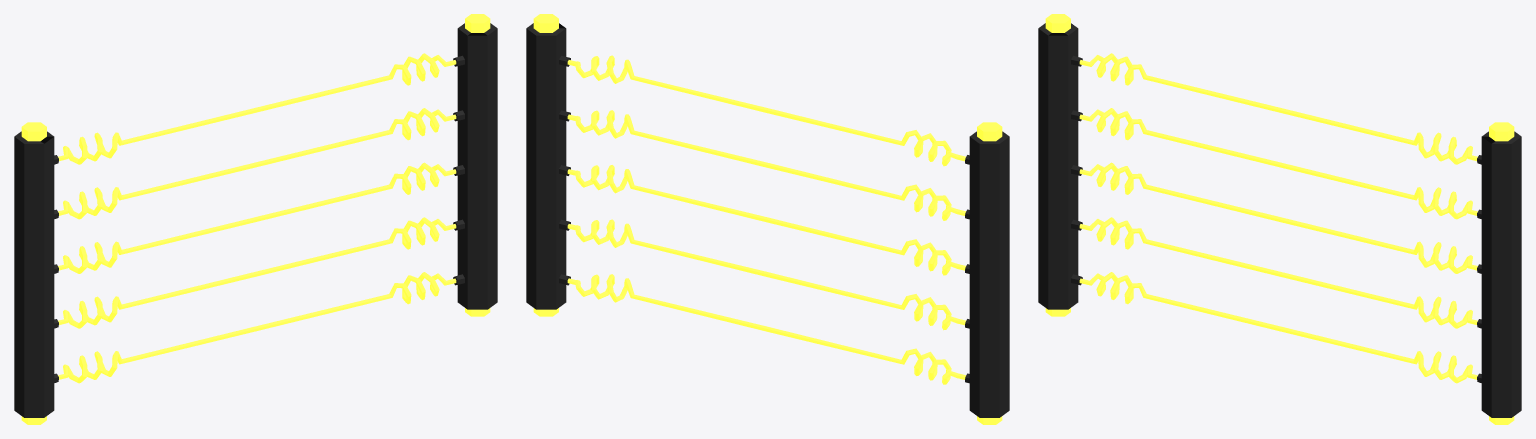
The model's file is electricKillFence.fbx.
3 views of the same model, side by side, from view 1: azimuth 30°, elevation 25°; view 2: azimuth 150°, elevation 25°; view 3: azimuth 330°, elevation 25° (orthographic).
Parts seen in each view (by area): view 1: wire, pole.002, pole.001; view 2: wire, pole.002, pole.001; view 3: wire, pole.001, pole.002.
Part boxes in pixels (x1,y1,x2,y2): wire: (54,53,464,383); pole.002: (14,122,54,424); pole.001: (457,14,497,316); wire: (559,55,969,384); pole.002: (969,122,1009,424); pole.001: (526,14,566,316); wire: (1071,53,1481,383); pole.001: (1481,122,1521,424); pole.002: (1038,14,1078,316).
Bounding box in the file's own units: 499 × 296 × 36.53.
